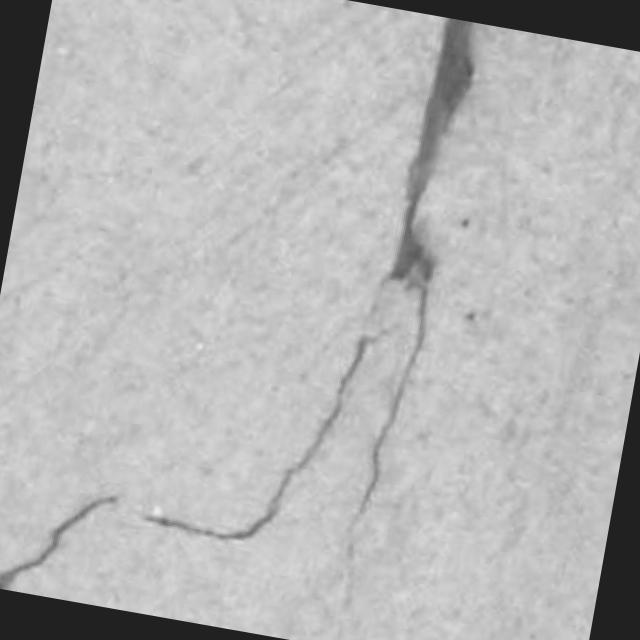crack: (353, 18, 473, 523), (145, 335, 373, 540), (389, 18, 472, 278), (353, 277, 428, 521), (0, 495, 117, 589)
